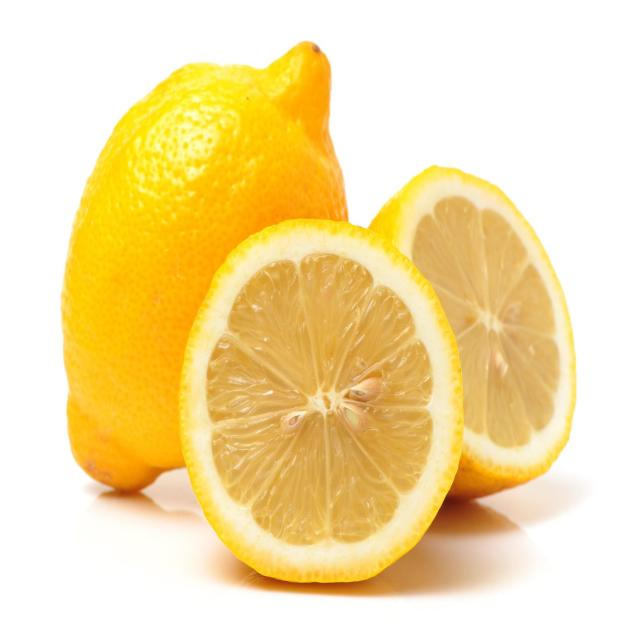lemon: (173, 209, 470, 591)
